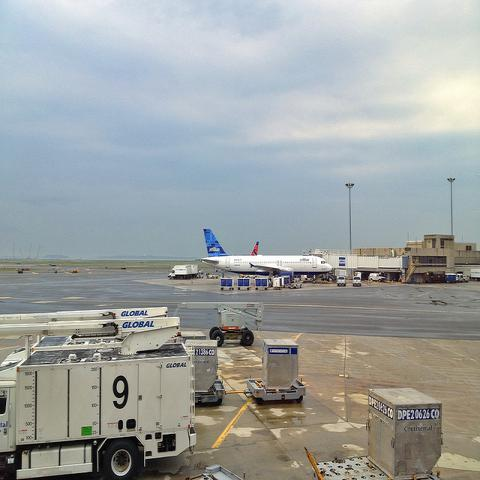car: (368, 272, 387, 283), (352, 276, 361, 286), (458, 274, 464, 283), (464, 274, 470, 282)
truck: (0, 304, 197, 480), (255, 275, 291, 289), (167, 265, 198, 279), (196, 269, 220, 279), (352, 276, 362, 287), (337, 276, 346, 286)
